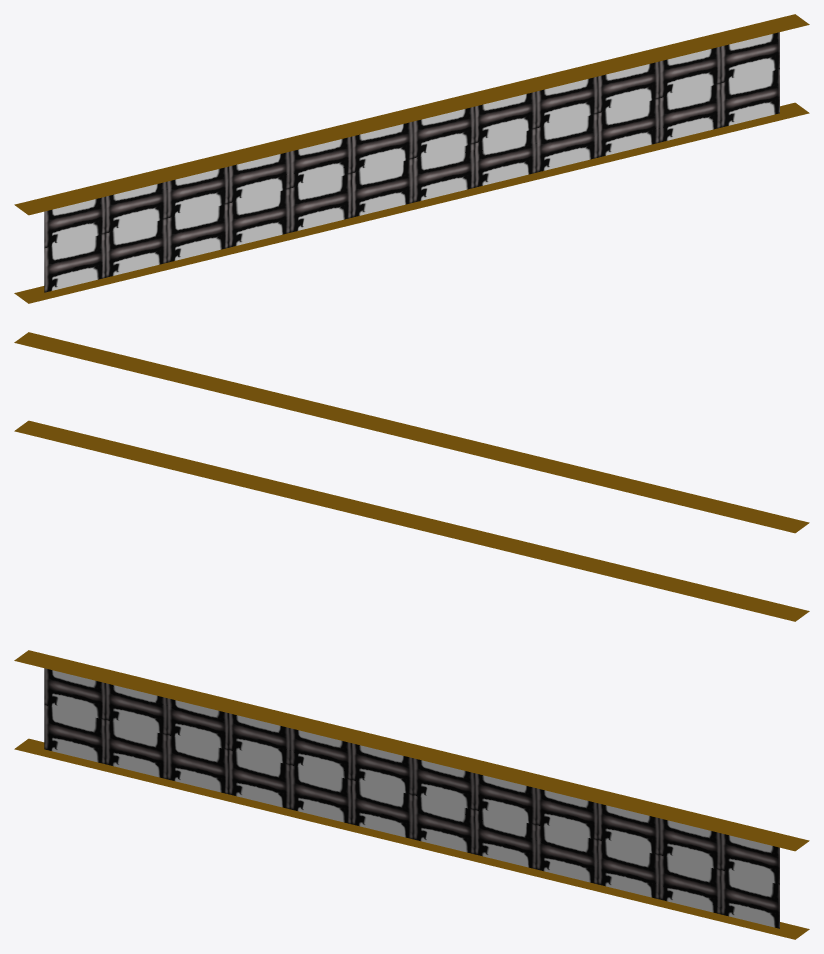
Rendered from Geländer3_1153.glb.
3 renders of one model, top to bottom at view 1: azimuth 30°, elevation 25°; view 2: azimuth 150°, elevation 25°; view 3: azimuth 330°, elevation 25°, orthographic.
Visible parts, largest first — view 1: pPlaneShape223, pPlaneShape224, pPlaneShape225; view 2: pPlaneShape224, pPlaneShape225; view 3: pPlaneShape223, pPlaneShape224, pPlaneShape225.
Part boxes in pixels (x1,y1,x2,y2): pPlaneShape223: [44, 32, 779, 292]; pPlaneShape224: [14, 14, 809, 215]; pPlaneShape225: [14, 102, 809, 303]; pPlaneShape224: [14, 332, 809, 533]; pPlaneShape225: [14, 420, 809, 621]; pPlaneShape223: [44, 668, 779, 928]; pPlaneShape224: [14, 650, 809, 851]; pPlaneShape225: [14, 738, 809, 939].
Size of the model in its own units: 0.75 by 0.0811 by 0.0243.
3 materials, 1 textured.
